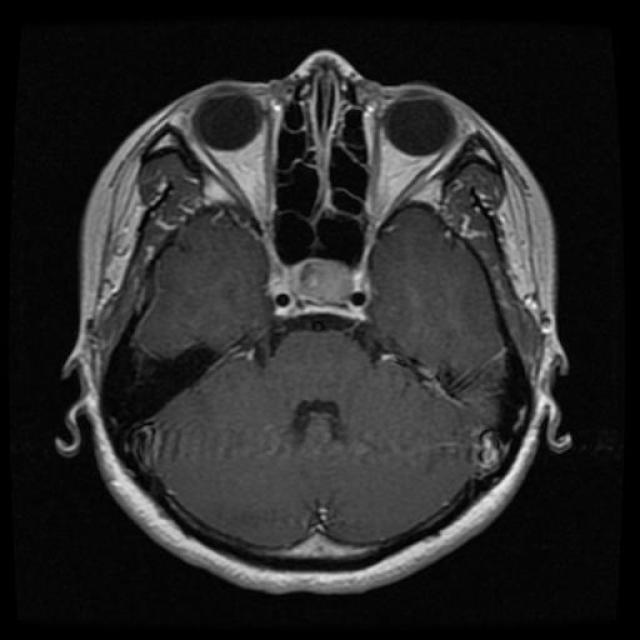pituitary: (280, 254, 370, 334)
